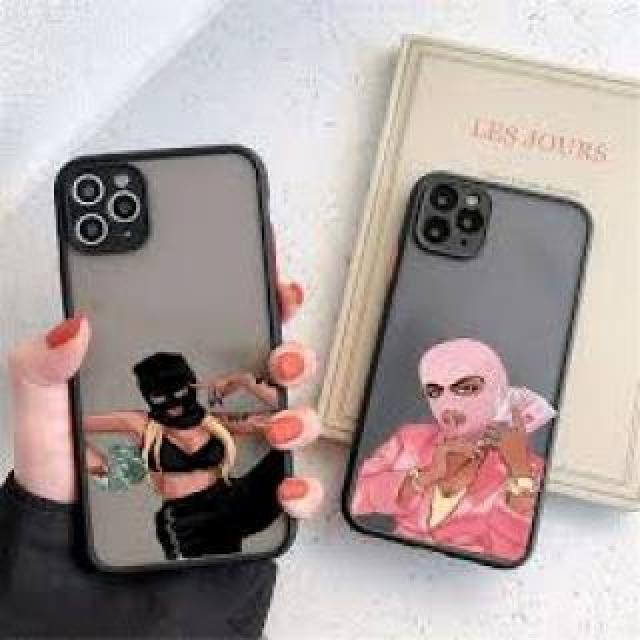smart phone: (38, 117, 307, 585), (358, 165, 607, 597)
